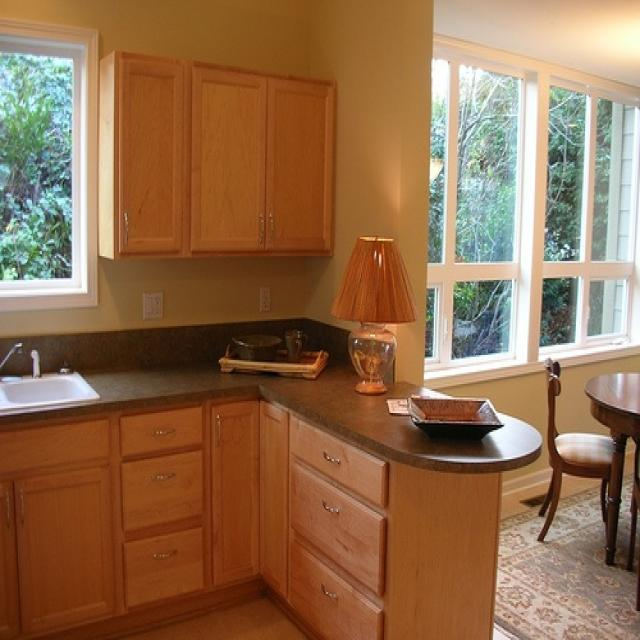chair: (535, 357, 616, 542)
diningtable: (584, 369, 638, 575)
